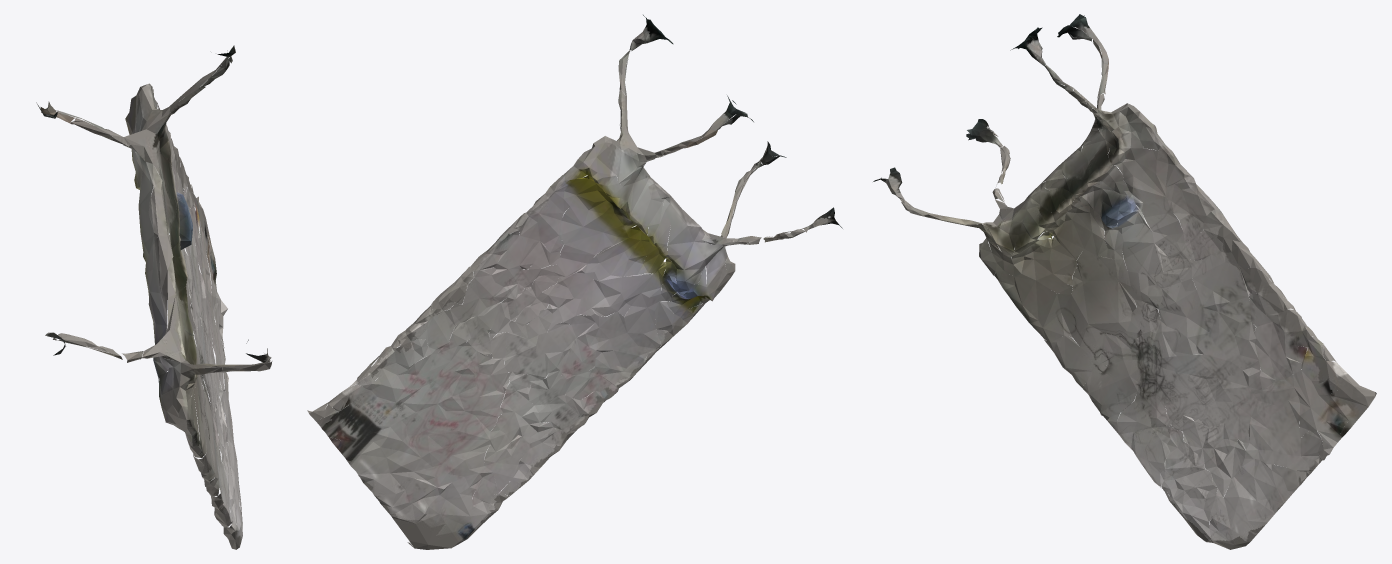
File: whiteboard.glb
The picture shows the model from 3 angles, left to right: view 1: azimuth 30°, elevation 25°; view 2: azimuth 150°, elevation 25°; view 3: azimuth 270°, elevation 25°; orthographic projection. The views are drawn at different scales.
Parts seen in each view (by area): view 1: Mesh_0.011; view 2: Mesh_0.011; view 3: Mesh_0.011.
Part boxes in pixels (x1=…): Mesh_0.011: x1=36, y1=45, x2=272, y2=549; Mesh_0.011: x1=307, y1=15, x2=842, y2=549; Mesh_0.011: x1=873, y1=14, x2=1376, y2=549.
Bounding box in the file's own units: 1 × 1.43 × 1.39.
Materials: 2 (2 with a texture image).
